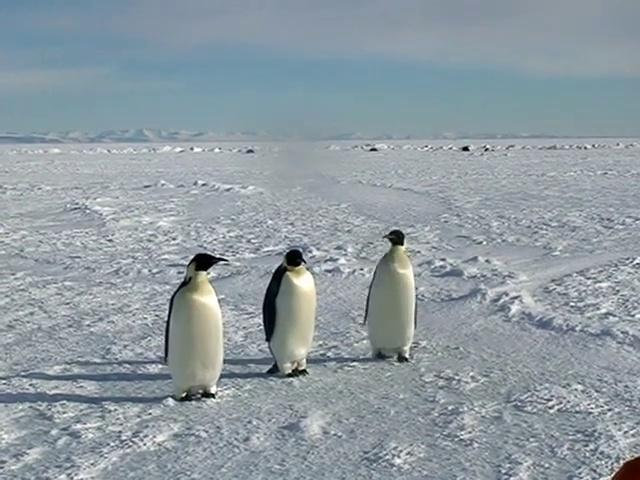animal: (365, 231, 417, 364)
